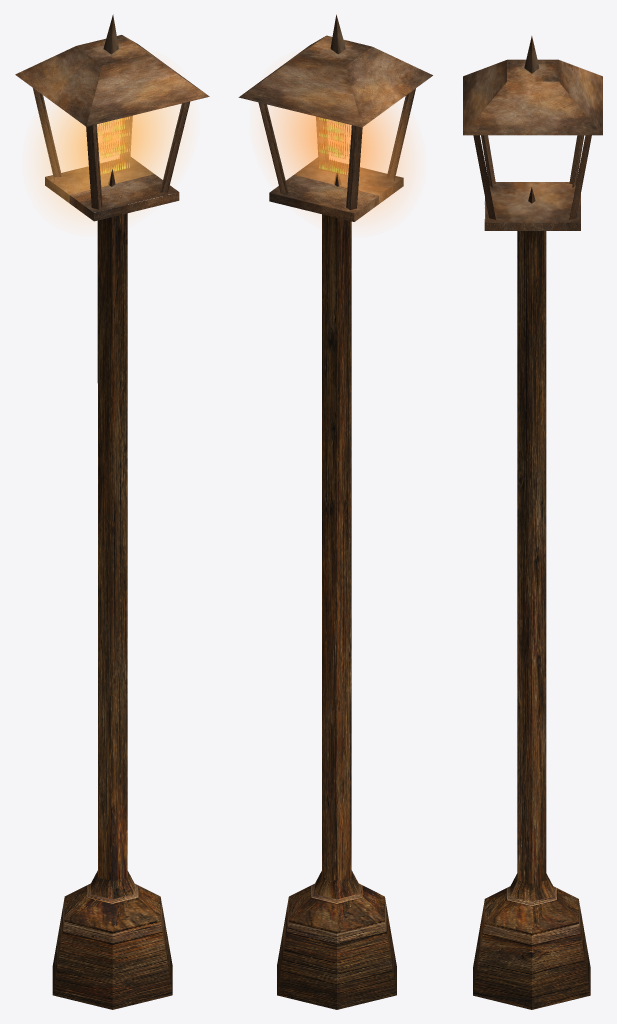
Rendered from mm9_deco_lamppost3.glb.
3 views of the same model, side by side, from view 1: azimuth 30°, elevation 25°; view 2: azimuth 150°, elevation 25°; view 3: azimuth 270°, elevation 25° (orthographic). The views are drawn at different scales.
Parts seen in each view (by area): view 1: Lamppost3; view 2: Lamppost3; view 3: Lamppost3.
Boxes of the visible parts, x1,y1,x2,y2 form: Lamppost3: (15,14,209,1009); Lamppost3: (238,14,432,1009); Lamppost3: (463,36,602,1009).
Bounding box in the file's own units: 0.896 × 4.28 × 0.5724.
Materials: 4 (4 with a texture image).
